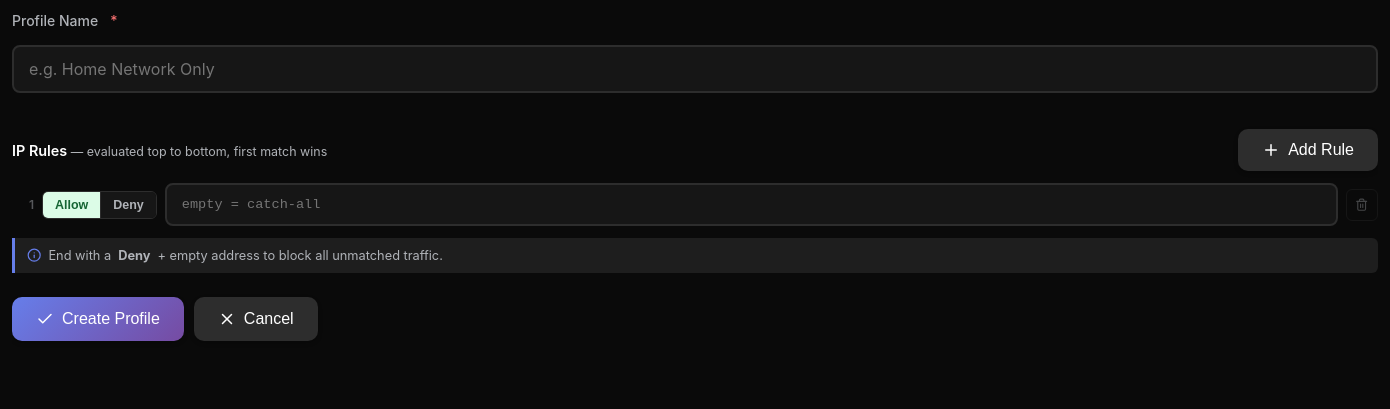
Scenario: AclProfileForm — rule management › removing a rule reduces the rule count
Click the button "Add Rule" at point(1308, 150), box [1238,129,1378,171]
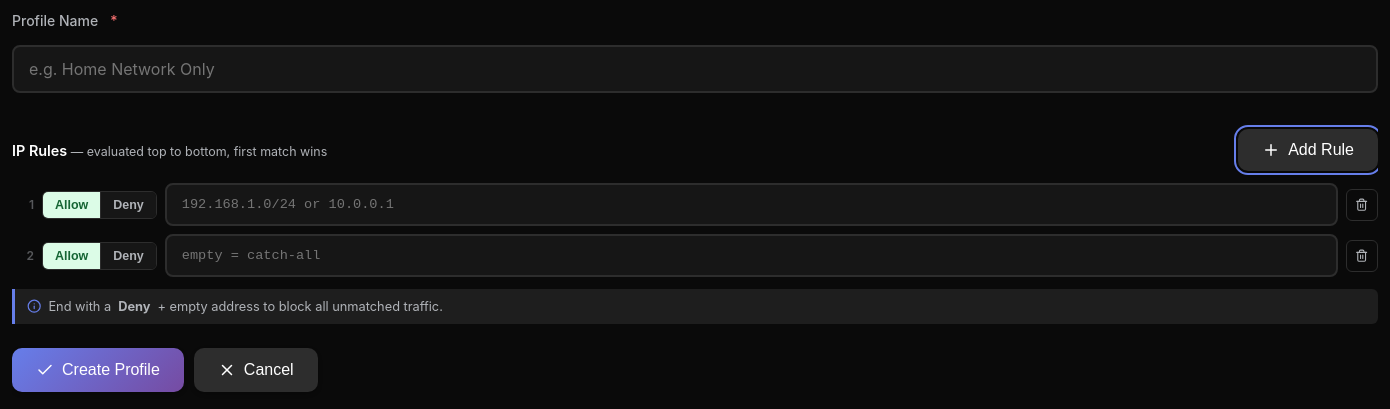
Click the button named "remove rule 1" at point(1362, 204), box [1346,188,1378,220]
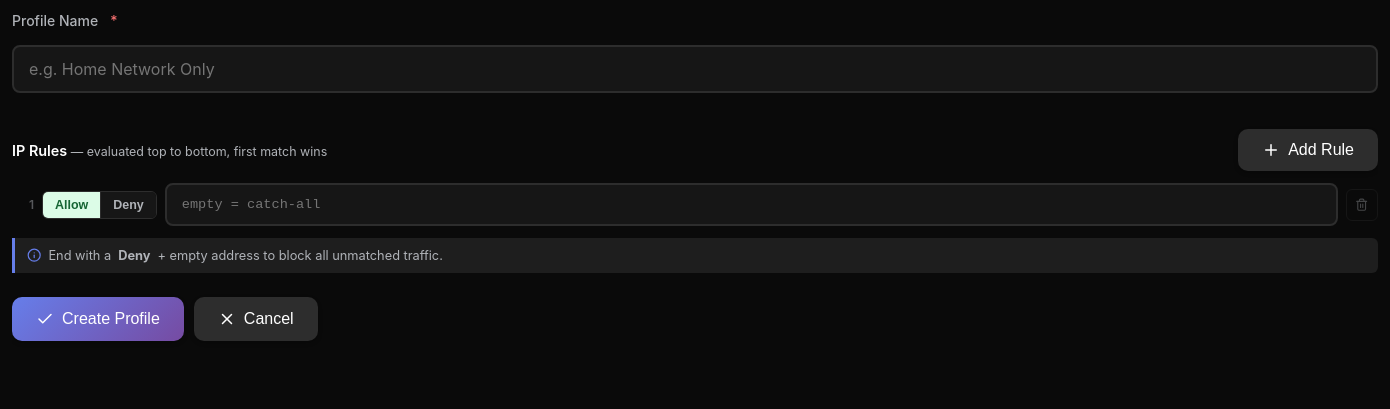
Check: the number of buttons named "remove rule" is 1, box [1346,188,1378,220]
